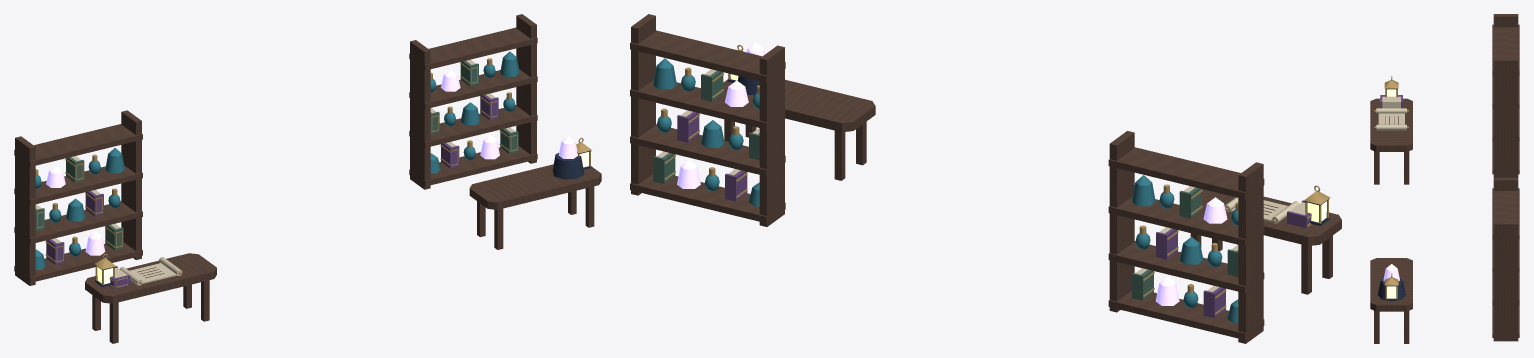
Rendered from shelves-and-benches.glb.
3 renders of one model, left to right at view 1: azimuth 30°, elevation 25°; view 2: azimuth 150°, elevation 25°; view 3: azimuth 270°, elevation 25°, orthographic. The views are drawn at different scales.
Parts seen in each view (by area): view 1: WorkshopFurnishings_wood, WorkshopFurnishings_teal, WorkshopFurnishings_green, WorkshopFurnishings_gold, WorkshopFurnishings_violet, WorkshopFurnishings_rune, WorkshopFurnishings_paper, WorkshopFurnishings_dark; view 2: WorkshopFurnishings_wood, WorkshopFurnishings_teal, WorkshopFurnishings_green, WorkshopFurnishings_violet, WorkshopFurnishings_rune, WorkshopFurnishings_gold, WorkshopFurnishings_paper; view 3: WorkshopFurnishings_wood, WorkshopFurnishings_paper, WorkshopFurnishings_gold, WorkshopFurnishings_dark, WorkshopFurnishings_flame, WorkshopFurnishings_rune.
Boxes of the visible parts, box(x1,y1,x2,y2) form: WorkshopFurnishings_wood: box(14, 14, 601, 343); WorkshopFurnishings_teal: box(35, 51, 519, 269); WorkshopFurnishings_green: box(35, 61, 518, 250); WorkshopFurnishings_gold: box(35, 58, 591, 288); WorkshopFurnishings_violet: box(46, 94, 498, 288); WorkshopFurnishings_rune: box(46, 69, 577, 255); WorkshopFurnishings_paper: box(35, 59, 515, 285); WorkshopFurnishings_dark: box(95, 150, 591, 287); WorkshopFurnishings_wood: box(630, 14, 1341, 343); WorkshopFurnishings_teal: box(653, 58, 1238, 323); WorkshopFurnishings_green: box(653, 70, 1238, 300); WorkshopFurnishings_violet: box(677, 111, 1311, 318); WorkshopFurnishings_rune: box(677, 42, 1227, 305); WorkshopFurnishings_gold: box(661, 44, 1330, 314); WorkshopFurnishings_paper: box(657, 69, 1305, 291); WorkshopFurnishings_wood: box(1370, 14, 1519, 343); WorkshopFurnishings_paper: box(1376, 96, 1406, 130); WorkshopFurnishings_gold: box(1374, 76, 1408, 299); WorkshopFurnishings_dark: box(1377, 88, 1405, 301); WorkshopFurnishings_flame: box(1387, 89, 1396, 298); WorkshopFurnishings_rune: box(1383, 264, 1399, 280).
Bounding box in the file's own units: 10.02 × 2.78 × 3.
Materials: 9 (1 with a texture image).
